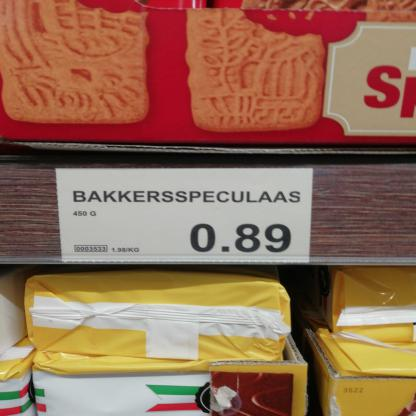prtg: (56, 168, 315, 264)
